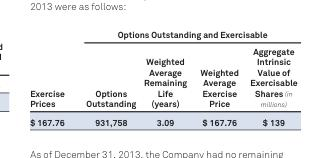table: (29, 28, 296, 127)
table column: (74, 28, 139, 127), (139, 28, 192, 127), (243, 28, 296, 127), (192, 28, 243, 127), (29, 28, 74, 127)
table column header: (29, 28, 296, 112)
table row: (29, 42, 296, 112), (29, 112, 296, 127), (29, 28, 296, 42)
table spanning cell: (29, 28, 74, 112), (74, 28, 296, 42)
